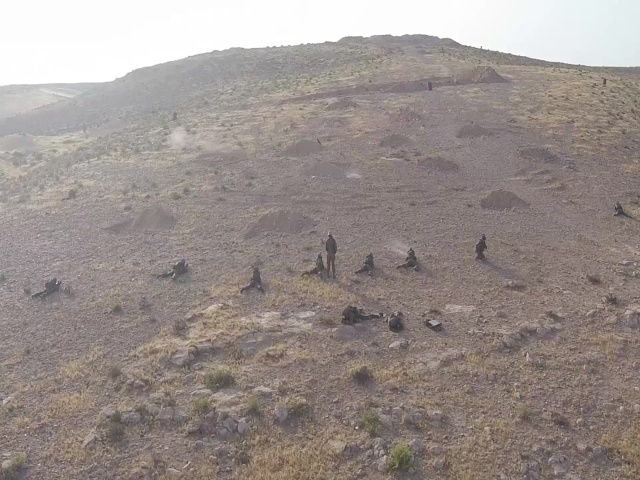person: (339, 302, 384, 325), (28, 277, 63, 301), (239, 265, 266, 295), (157, 260, 193, 281), (323, 231, 338, 278), (397, 247, 423, 273), (300, 252, 325, 278), (354, 251, 376, 278), (472, 232, 488, 260), (610, 198, 628, 221)
